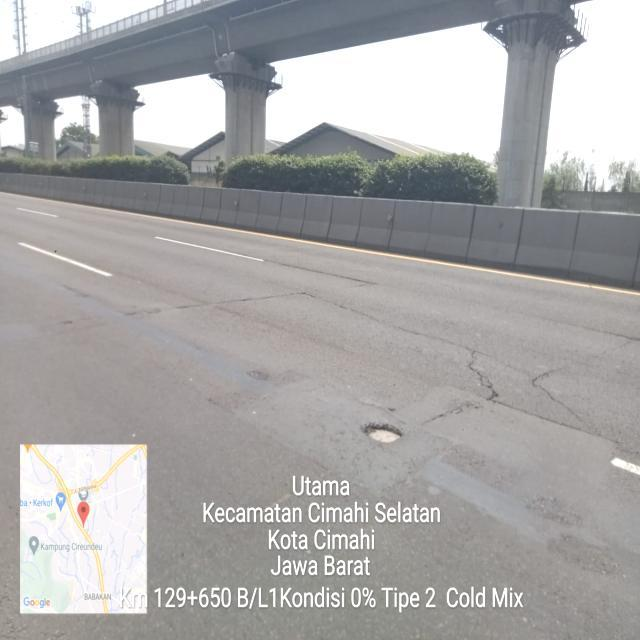Buraco: (358, 421, 407, 446)
